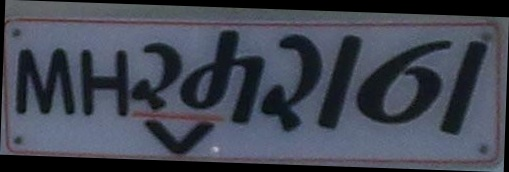character: (13, 45, 74, 117), (79, 46, 128, 117)
